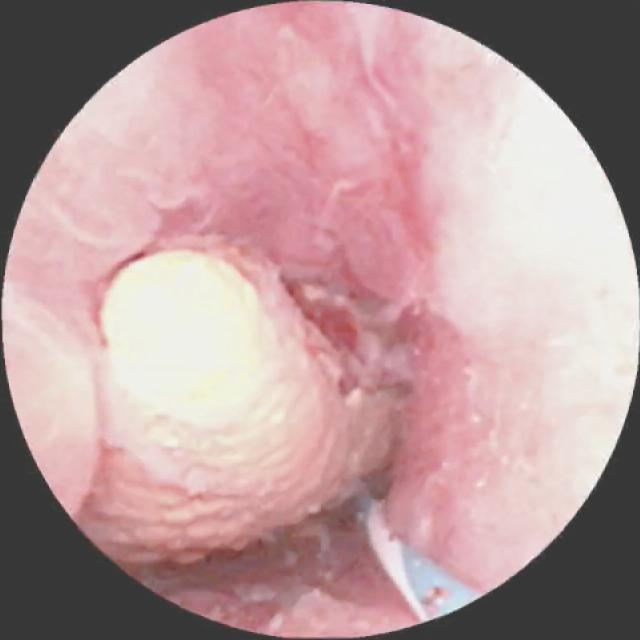stone: (93, 249, 411, 562)
tissue: (14, 16, 631, 566)
